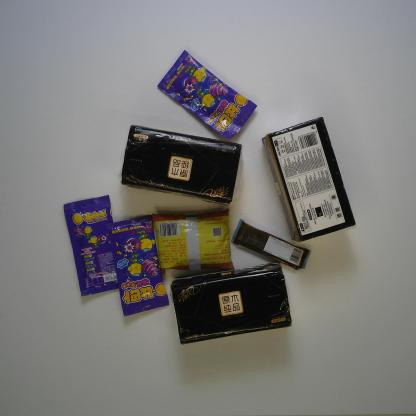Candy: (156, 49, 258, 140), (106, 214, 170, 317), (63, 195, 125, 298)
Chocolate: (231, 218, 311, 271)
Seasoner: (151, 208, 235, 275)
Tissue: (261, 116, 356, 243), (170, 262, 292, 345), (121, 125, 244, 207)
